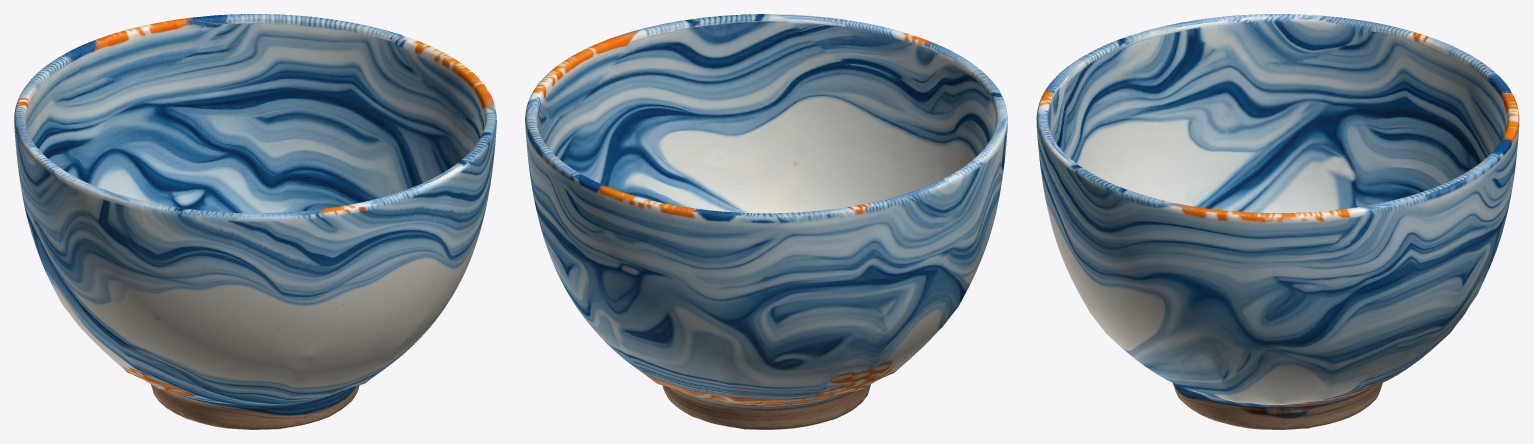
The model's file is cousin_3.glb.
3 renders of one model, left to right at view 1: azimuth 30°, elevation 25°; view 2: azimuth 150°, elevation 25°; view 3: azimuth 270°, elevation 25°, orthographic.
Bounding box in the file's own units: 1.91 × 1.2 × 1.91.
1 material, 1 textured.
